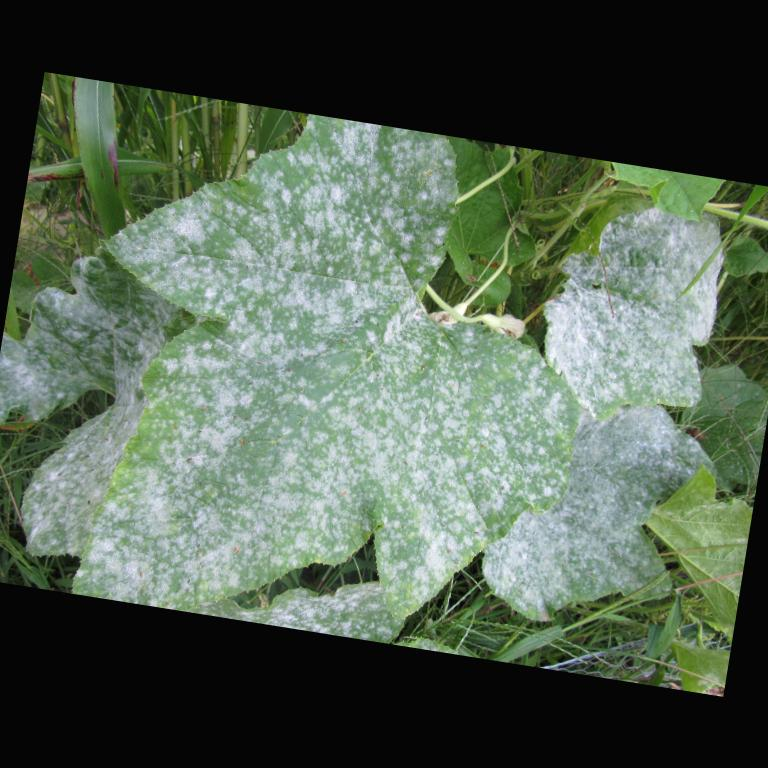powdery-mildew: (218, 312, 517, 512), (254, 165, 426, 324), (550, 412, 653, 580), (109, 478, 231, 604), (565, 291, 697, 401)
